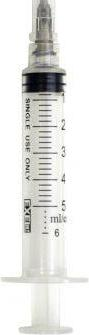syringes: (0, 1, 89, 335)
